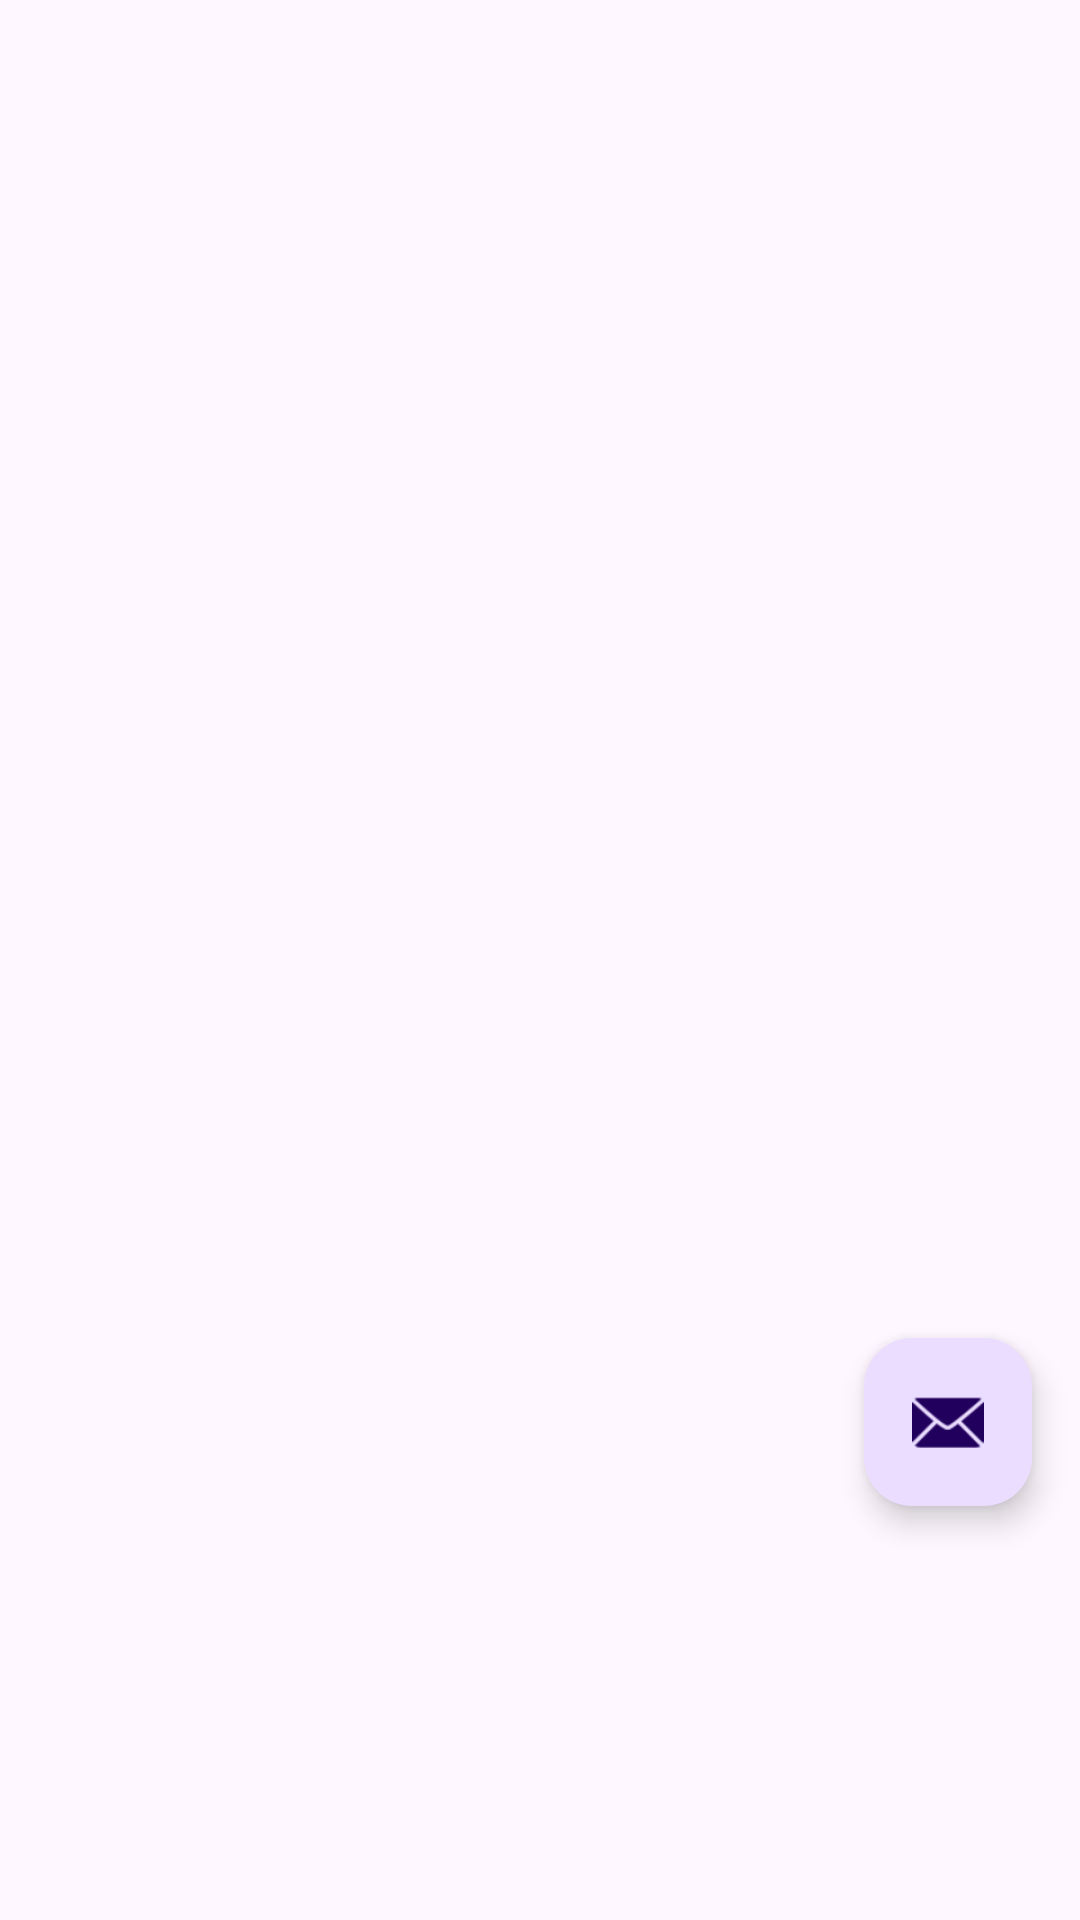

Locate icon controls on the screen. Image size 1080×1920, boxes as bbox(x1, y1, x2, y2).
email: bbox(912, 1397, 984, 1448)
